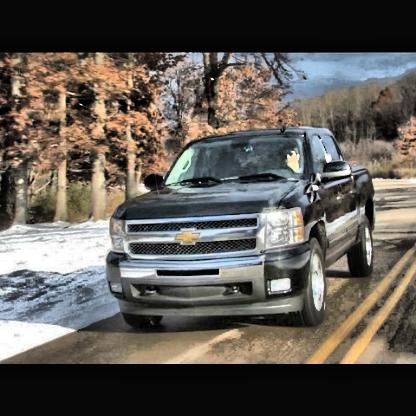Chevrolet Silverado 1500 Hybrid Crew Cab 2012: (109, 128, 378, 330)
